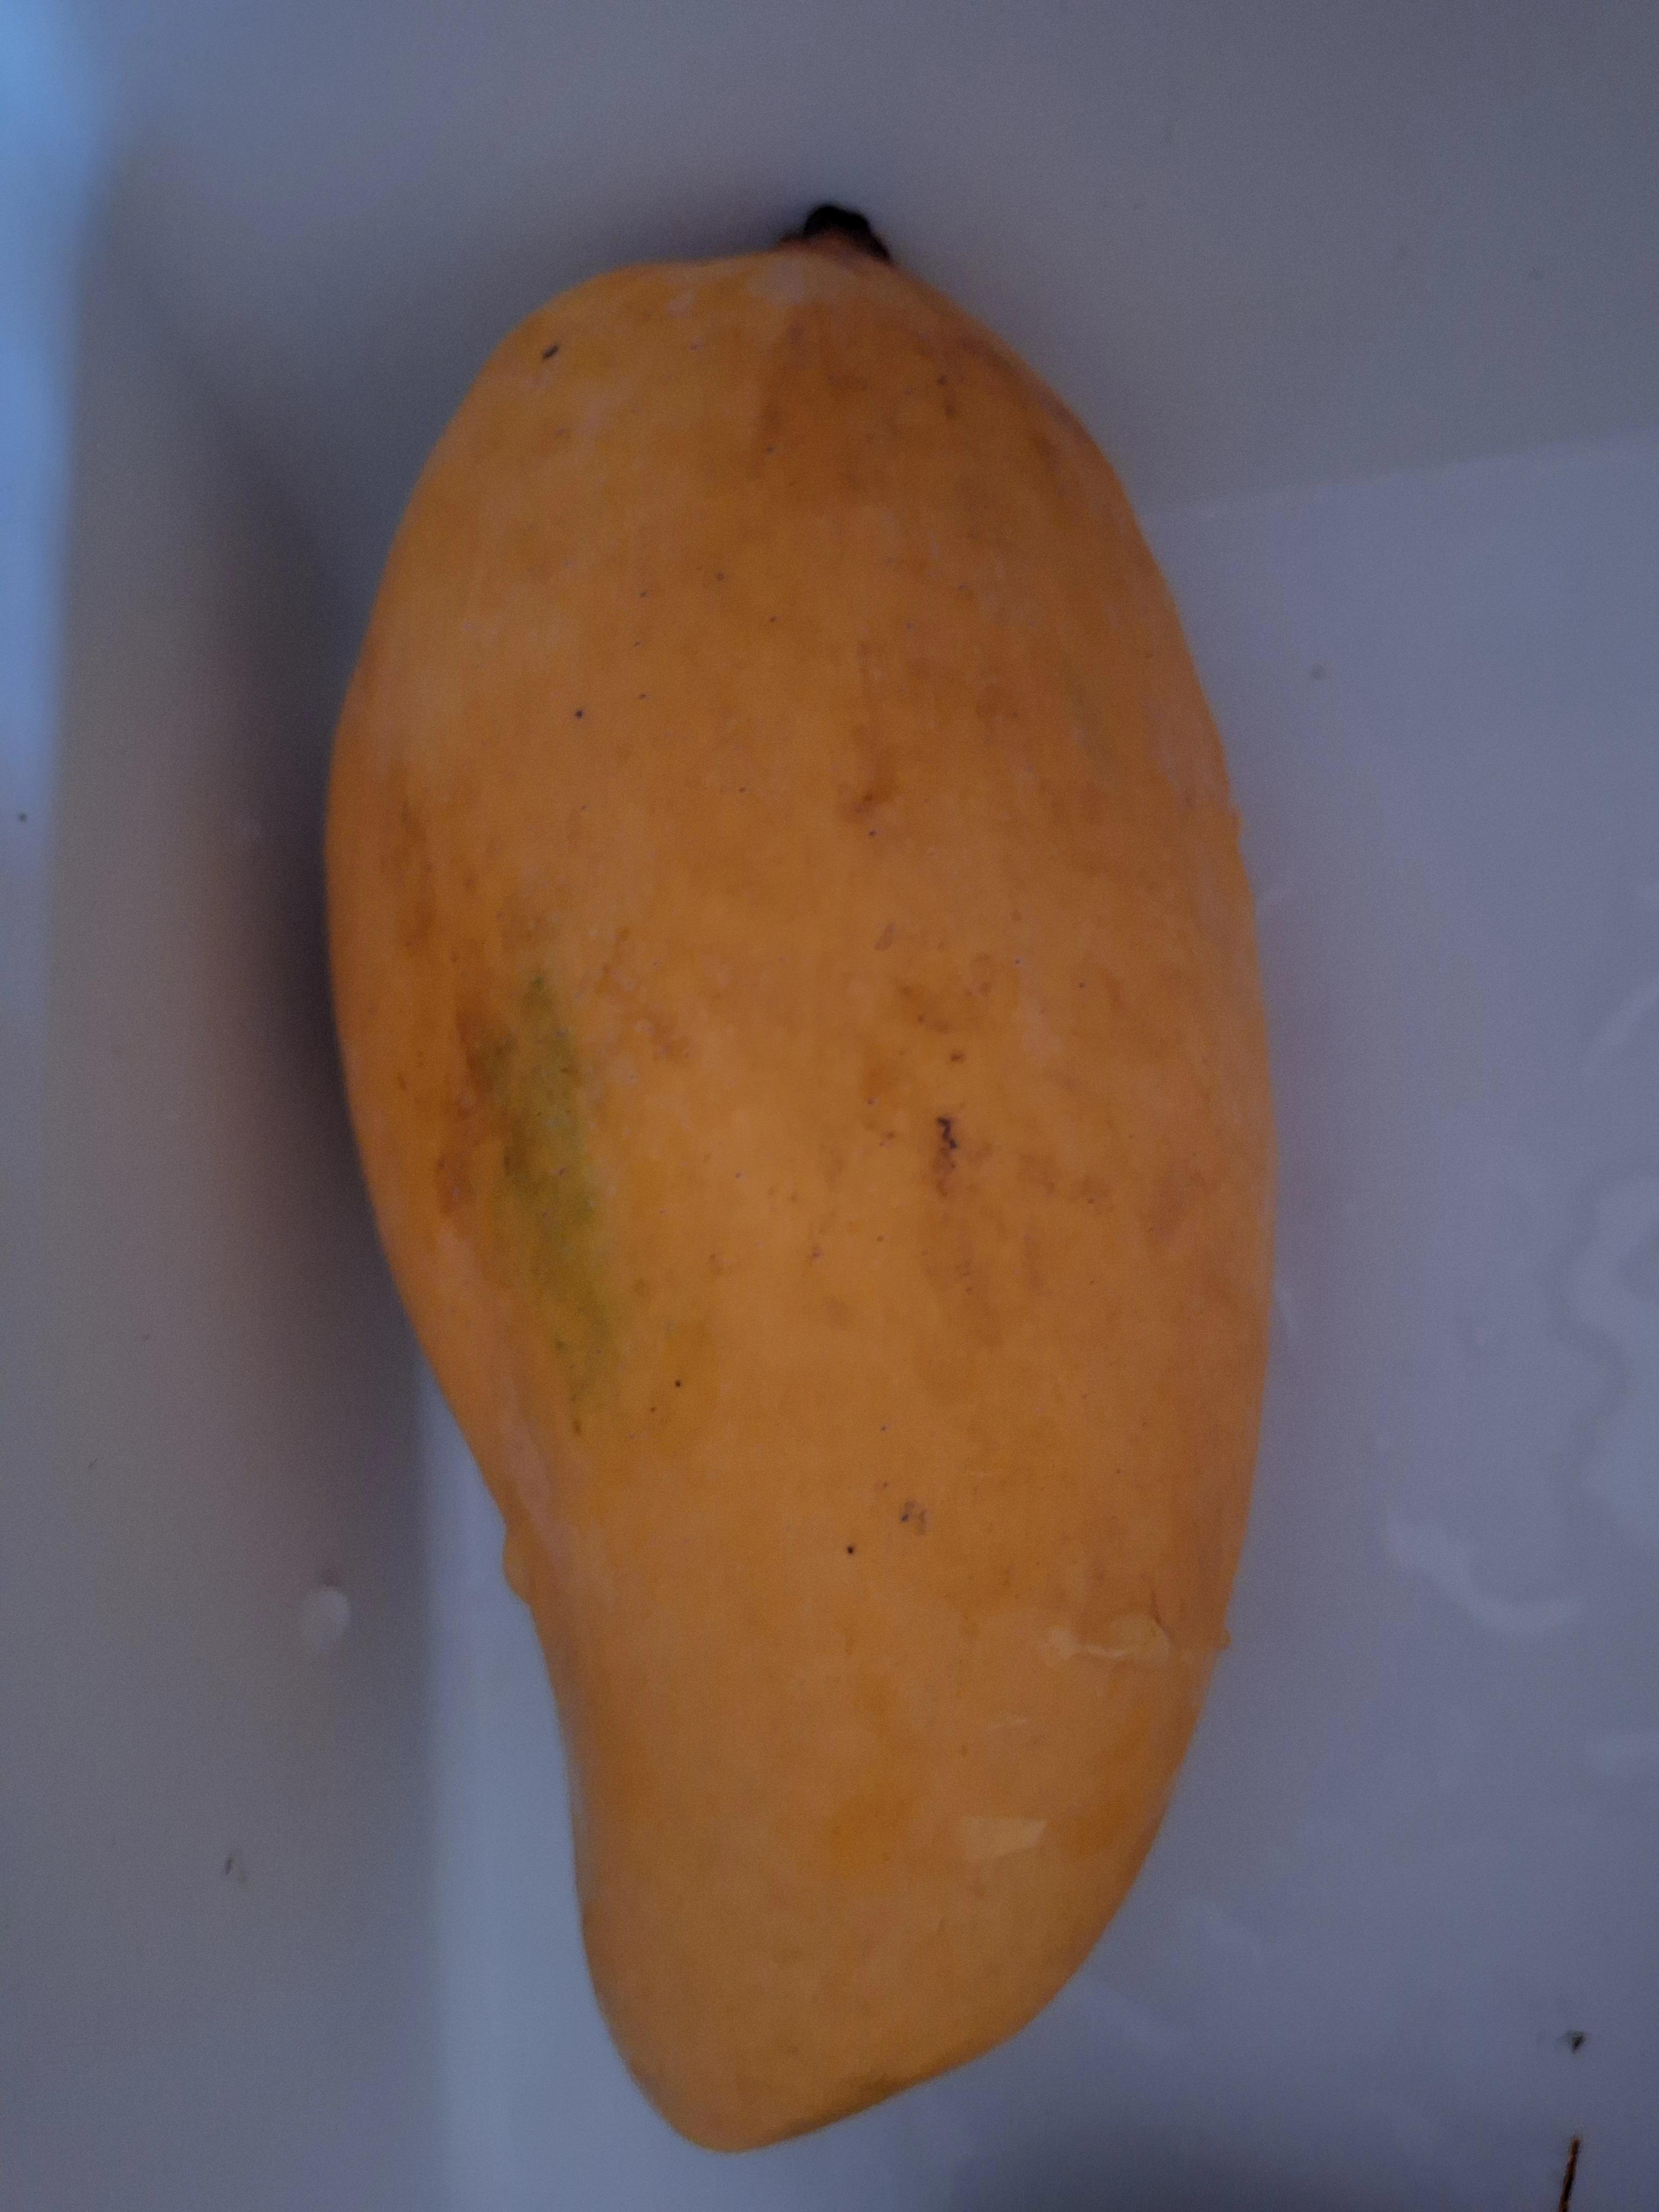mango: (321, 202, 1279, 2153)
